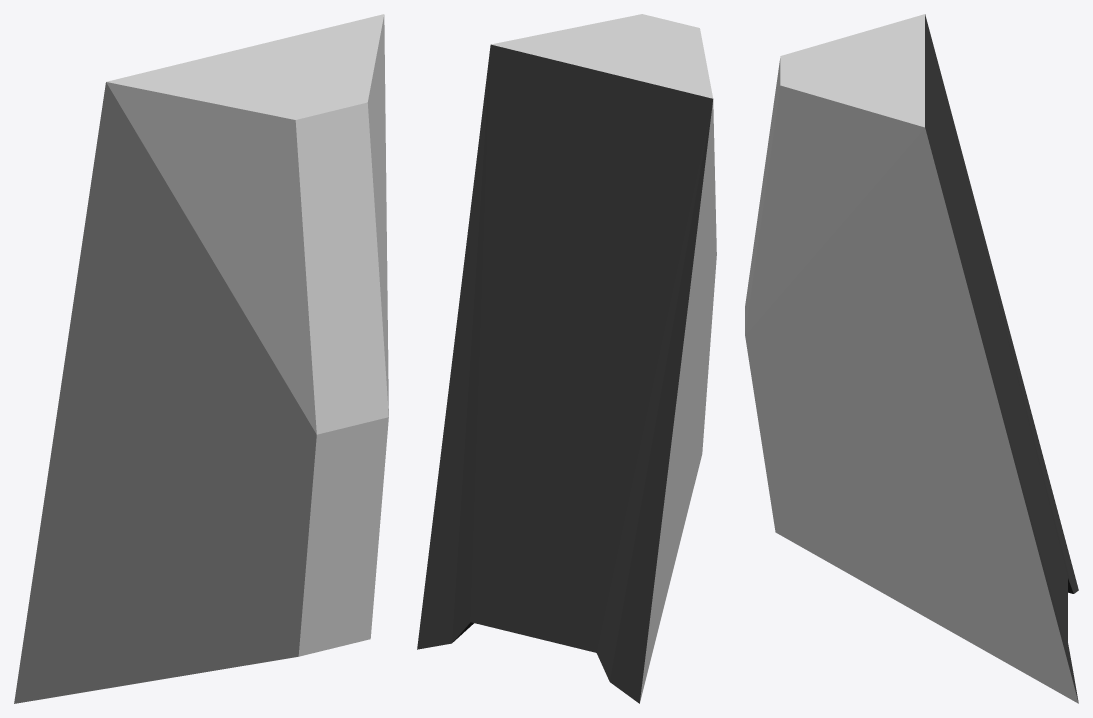
The model's file is space_station_decoration_013.fbx.
The picture shows the model from 3 angles, left to right: view 1: azimuth 30°, elevation 25°; view 2: azimuth 150°, elevation 25°; view 3: azimuth 270°, elevation 25°; orthographic projection. The views are drawn at different scales.
Parts seen in each view (by area): view 1: space_station_decoration_013; view 2: space_station_decoration_013; view 3: space_station_decoration_013.
Boxes of the visible parts, x1,y1,x2,y2 form: space_station_decoration_013: (14,14,388,703); space_station_decoration_013: (417,14,716,703); space_station_decoration_013: (745,14,1078,703).
Size of the model in its own units: 217 by 269 by 513.
